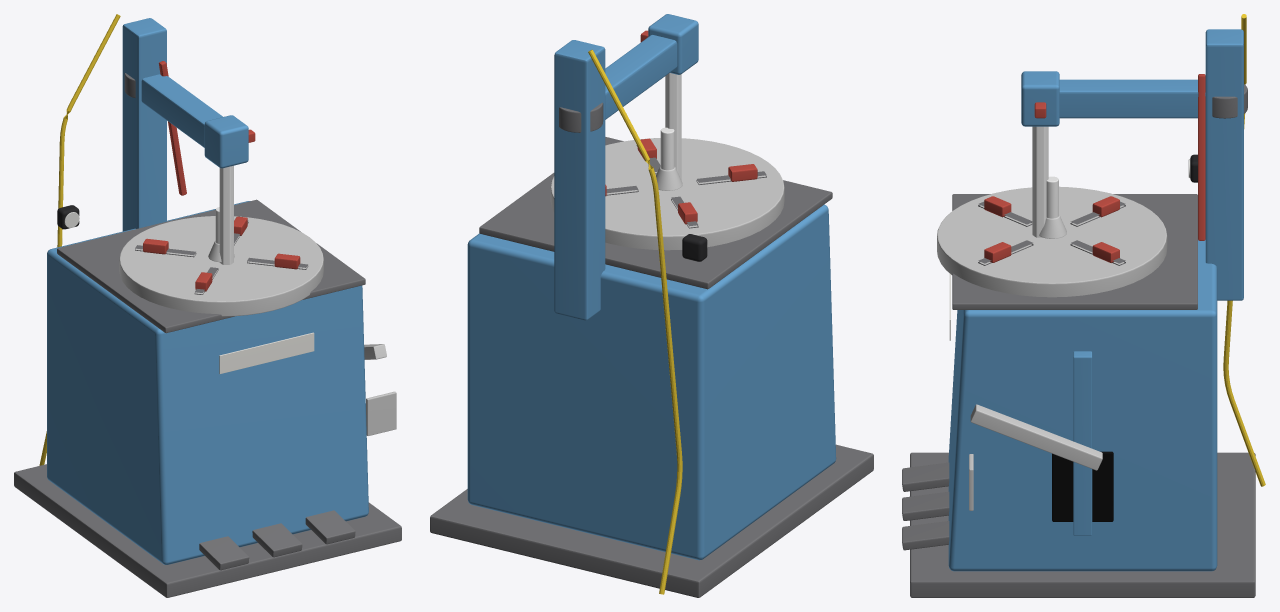
Rendered from industrial.workshop.tyre_changer.glb.
3 views of the same model, side by side, from view 1: azimuth 30°, elevation 25°; view 2: azimuth 150°, elevation 25°; view 3: azimuth 270°, elevation 25° (orthographic). The views are drawn at different scales.
Parts seen in each view (by area): view 1: main__paint_69c, main__galv_777, main__galv_ccc, main__paint_c44, main__paint_eee, main__chrome_eee, main__paint_ec3; view 2: main__paint_69c, main__galv_777, main__galv_ccc, main__paint_ec3, main__chrome_eee, main__paint_c44, main__paint_222; view 3: main__paint_69c, main__galv_777, main__galv_ccc, main__paint_c44, main__rubber, main__chrome_eee, main__paint_ec3.
Part boxes in pixels (x1,y1,x2,y2): main__paint_69c: (47,18,368,564); main__galv_777: (14,73,401,597); main__galv_ccc: (119,216,396,435); main__paint_c44: (143,61,300,291); main__paint_eee: (219,332,314,373); main__chrome_eee: (215,165,233,264); main__paint_ec3: (39,14,120,465); main__paint_69c: (467,14,836,560); main__galv_777: (430,102,873,597); main__galv_ccc: (550,138,784,250); main__paint_ec3: (588,49,682,594); main__chrome_eee: (660,73,681,180); main__paint_c44: (605,30,757,224); main__paint_222: (682,234,707,261); main__paint_69c: (948,29,1243,571); main__galv_777: (902,84,1255,597); main__galv_ccc: (937,186,1167,510); main__paint_c44: (984,74,1205,262); main__rubber: (1052,451,1113,521); main__chrome_eee: (1032,126,1058,237); main__paint_ec3: (1223,14,1265,486).
Size of the model in its own units: 0.87 by 1.47 by 0.9471.
